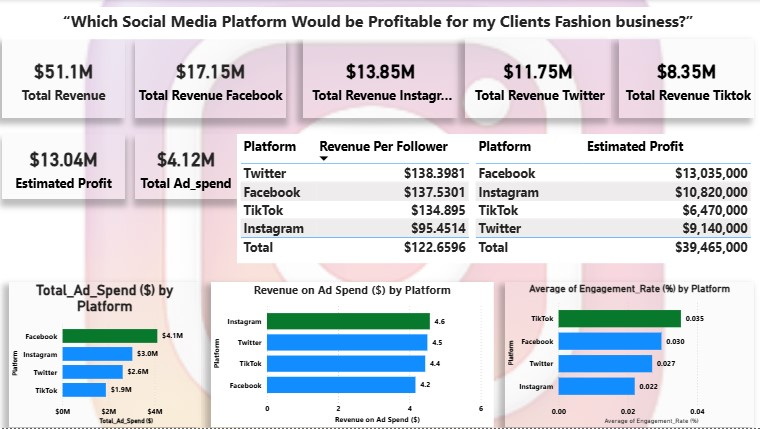

The dashboard page shown, as its layout file describes it:
{"tool":"powerbi","page":{"name":"Business Decision page","canvas":[1280,720],"ordinal":2},"visuals":[{"type":"card","fields":{"Values":["Sum(Duplicated copy.Monthly_Revenue)"]},"box":[512.3,67.2,300.7,201.6],"z":0},{"type":"card","fields":{"Values":["Sum(Duplicated copy.Monthly_Revenue)"]},"box":[979.3,67.2,300.7,201.6],"z":1000},{"type":"barChart","fields":{"Category":["Duplicated copy.Platform"],"Y":["Sum(Duplicated copy.Monthly_Revenue)"]},"box":[455.5,286.5,437.9,268.9],"z":2000},{"type":"card","fields":{"Values":["Sum(Duplicated copy.Monthly_Revenue)"]},"box":[2.9,67.6,398.2,201.3],"z":3000},{"type":"barChart","fields":{"Category":["Duplicated copy.Platform"],"Y":["Sum(Duplicated copy.Monthly_Ad_Spend)"]},"box":[2.9,286.5,414.4,268.9],"z":4000},{"type":"barChart","fields":{"Category":["Duplicated copy.Platform"],"Y":["Sum(Duplicated copy.Customer_Growth)"]},"box":[922.8,286.5,357.1,268.9],"z":5000},{"type":"textbox","box":[3.4,13.4,1259.8,53.8],"z":6000},{"type":"image","box":[965.4,123.4,130.8,60.2],"z":7000},{"type":"image","box":[529,117.6,82.3,72],"z":8000},{"type":"barChart","fields":{"Category":["Duplicated copy.Platform"],"Y":["Avg(Duplicated copy.Engagement_Rate (%))"]},"box":[2.9,555.4,414.4,164.6],"z":9000}]}

Visuals, with their boxes in screenshot pixels (x1, y1, x2, y2), scaled from the page's 1280x720 canvas onto the 760x429 screenshot:
card - Sum(Duplicated copy.Monthly_Revenue): [x1=304, y1=40, x2=483, y2=160]
card - Sum(Duplicated copy.Monthly_Revenue): [x1=581, y1=40, x2=759, y2=160]
barChart - Duplicated copy.Platform x Sum(Duplicated copy.Monthly_Revenue): [x1=270, y1=171, x2=530, y2=331]
card - Sum(Duplicated copy.Monthly_Revenue): [x1=2, y1=40, x2=238, y2=160]
barChart - Duplicated copy.Platform x Sum(Duplicated copy.Monthly_Ad_Spend): [x1=2, y1=171, x2=248, y2=331]
barChart - Duplicated copy.Platform x Sum(Duplicated copy.Customer_Growth): [x1=548, y1=171, x2=759, y2=331]
textbox: [x1=2, y1=8, x2=750, y2=40]
image: [x1=573, y1=74, x2=651, y2=109]
image: [x1=314, y1=70, x2=363, y2=113]
barChart - Duplicated copy.Platform x Avg(Duplicated copy.Engagement_Rate (%)): [x1=2, y1=331, x2=248, y2=428]
